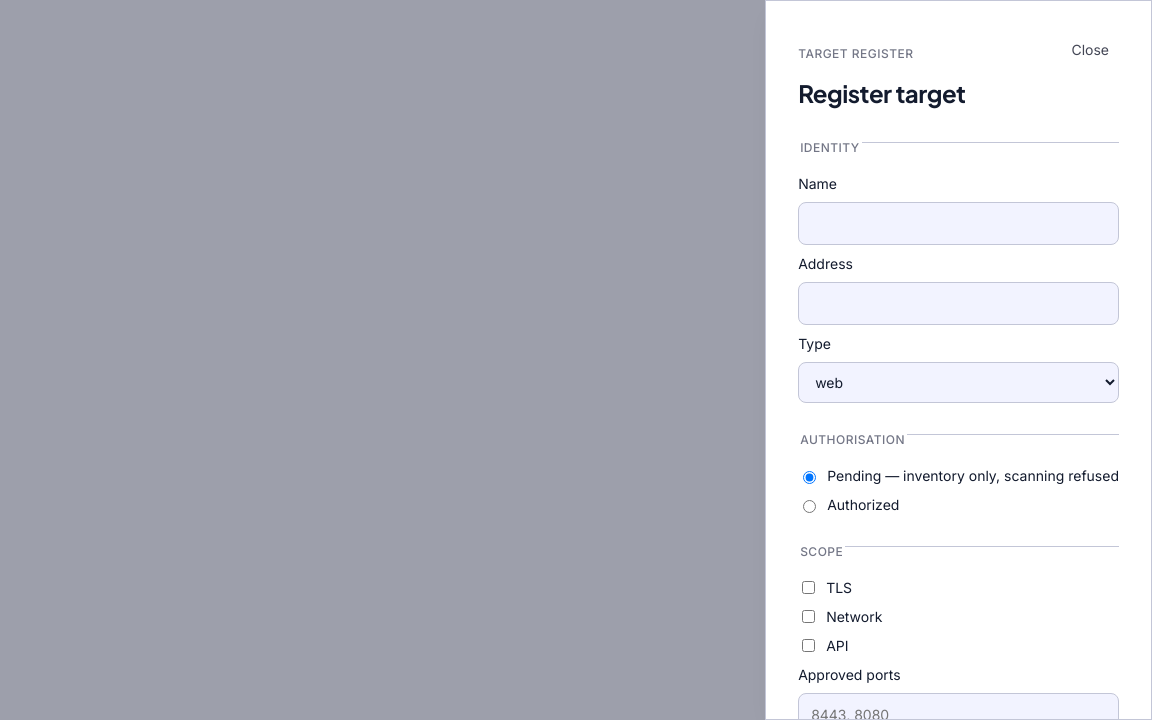
Test case: RegisterTargetSheet › requires a complete authorisation record before submitting
This screenshot has width=1152, height=720.
Type "svc" into the field labelled "Name" at (959, 224), box [798,202,1119,245]
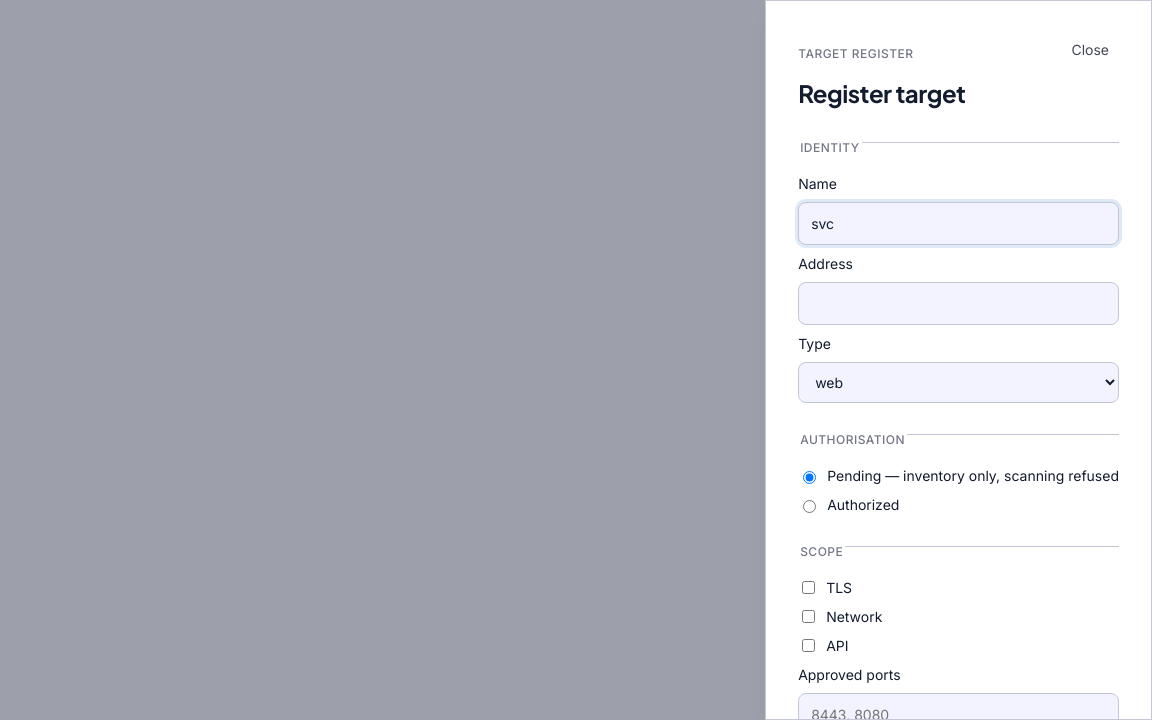
Type "https://127.0.0.1:8443" into the field labelled "Address" at (959, 304), box [798,282,1119,325]
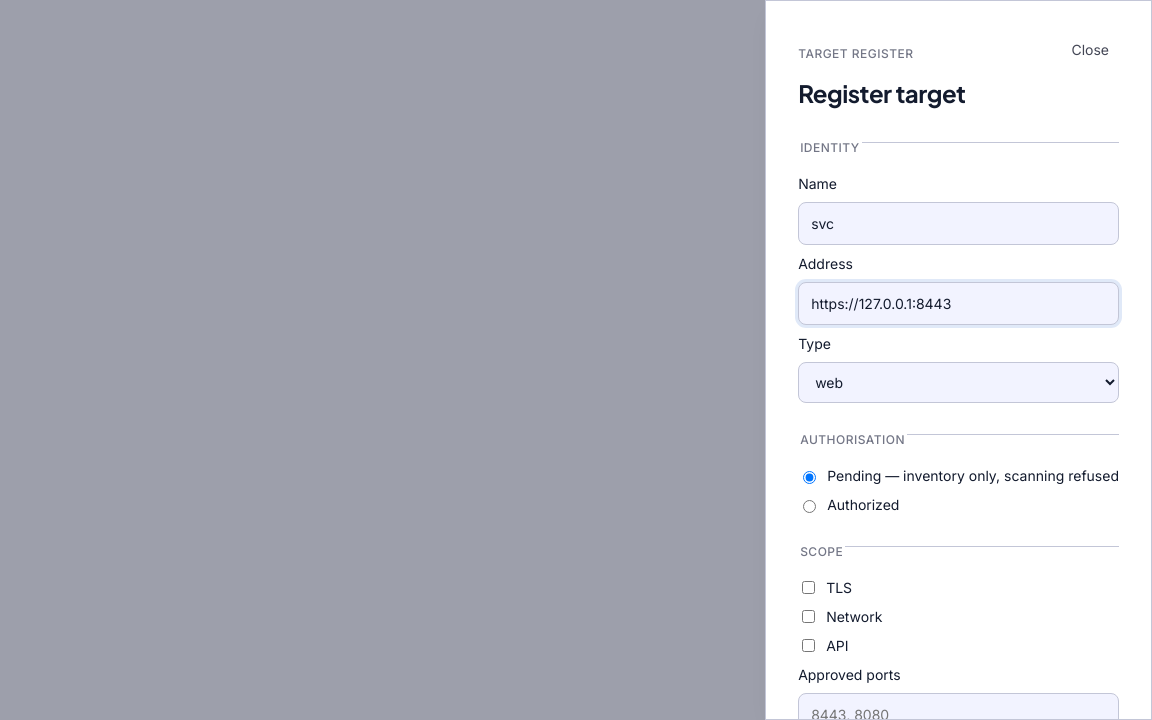
Click the radio button labelled "Authorized" at (810, 506), box [803,500,816,512]
(page scrolled)
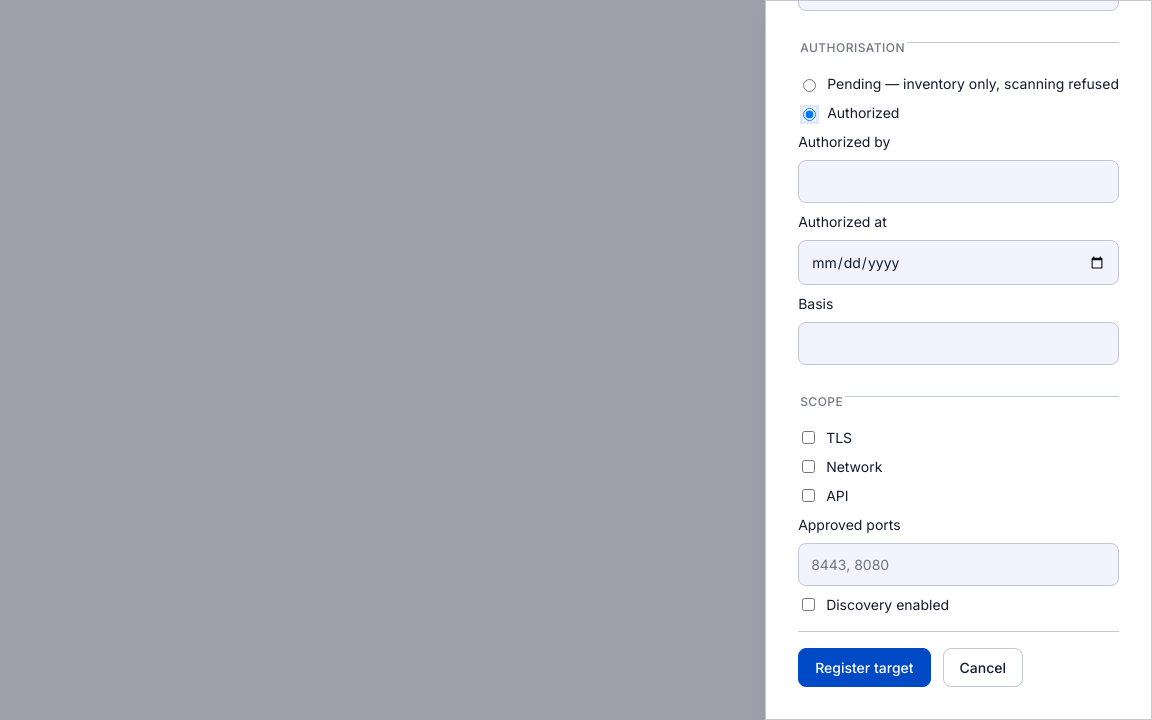
Click the button "Register target" at (864, 668), box [798,648,930,687]
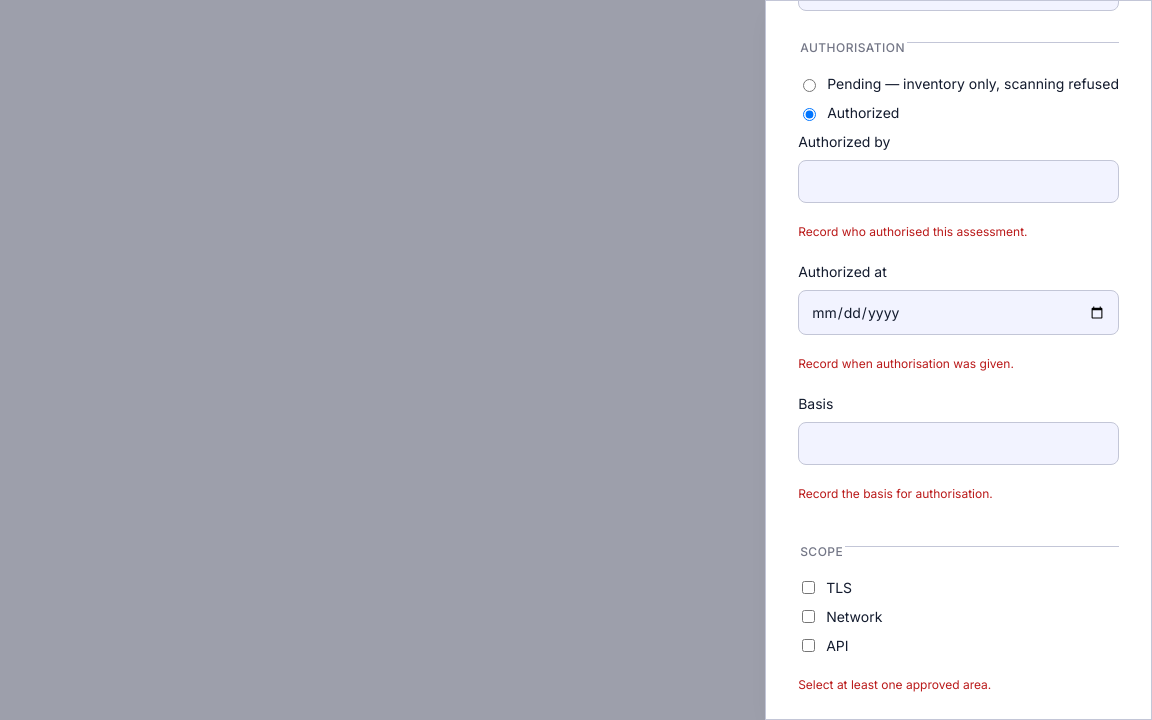
Expected: the text "Record who authorised this assessment." is shown, [798,224,1028,239]
Expected: the text "Record when authorisation was given." is shown, [798,356,1014,371]
Expected: the text "Select at least one approved area." is shown, [798,677,991,692]
